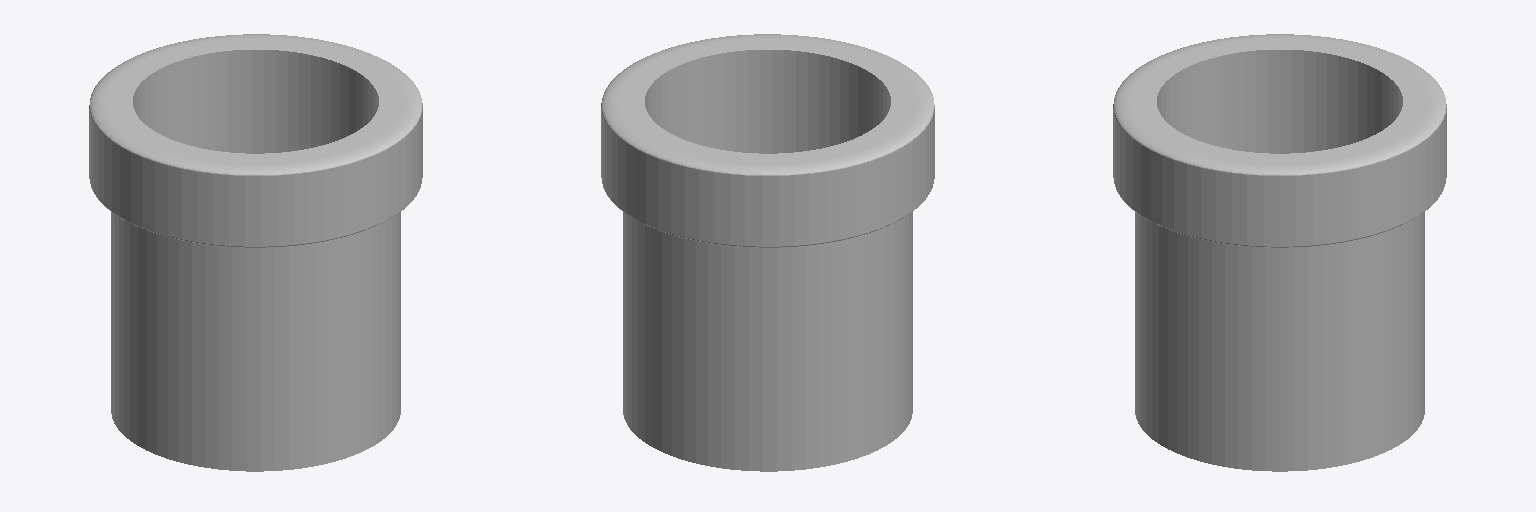
Rendered from warp pipe.obj.
3 renders of one model, left to right at view 1: azimuth 30°, elevation 25°; view 2: azimuth 150°, elevation 25°; view 3: azimuth 270°, elevation 25°, orthographic.
Parts seen in each view (by area): view 1: obj_0; view 2: obj_0; view 3: obj_0.
Part boxes in pixels (bbox=[...]): obj_0: bbox=[89, 34, 422, 471]; obj_0: bbox=[601, 34, 934, 471]; obj_0: bbox=[1113, 34, 1446, 471].
Bounding box in the file's own units: 46 × 47 × 46.